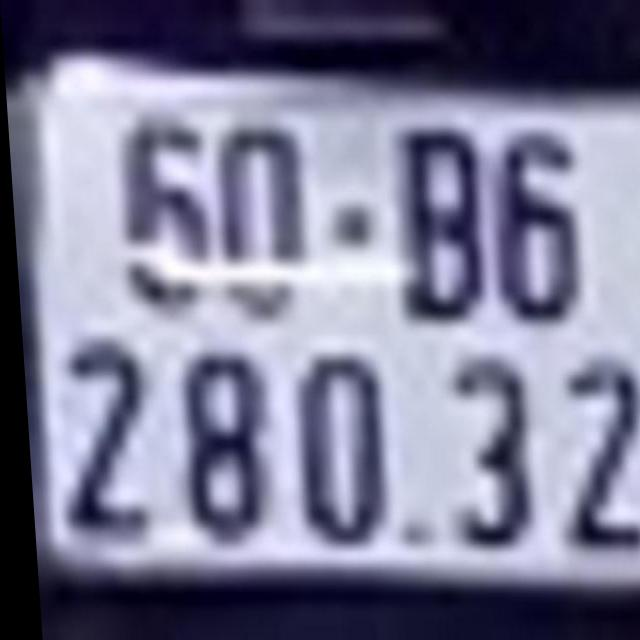0: (278, 342, 384, 548), (207, 119, 308, 328)
2: (41, 328, 147, 533), (549, 352, 640, 554)
3: (433, 342, 535, 548)
5: (111, 115, 212, 319)
6: (489, 116, 587, 328)
8: (165, 353, 262, 553)
B: (395, 126, 492, 324)
